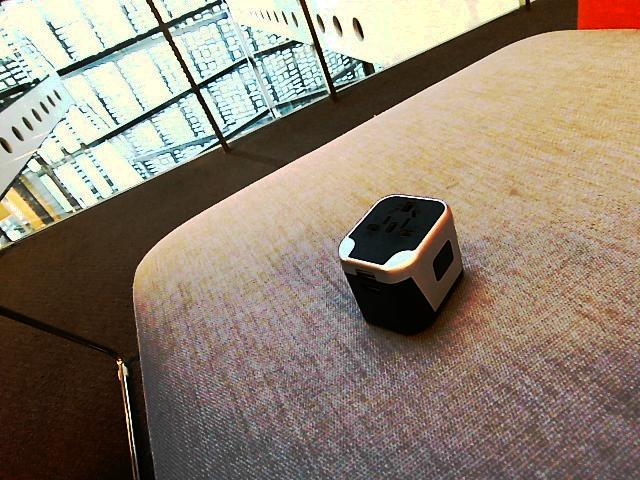adapter: (337, 193, 463, 336)
